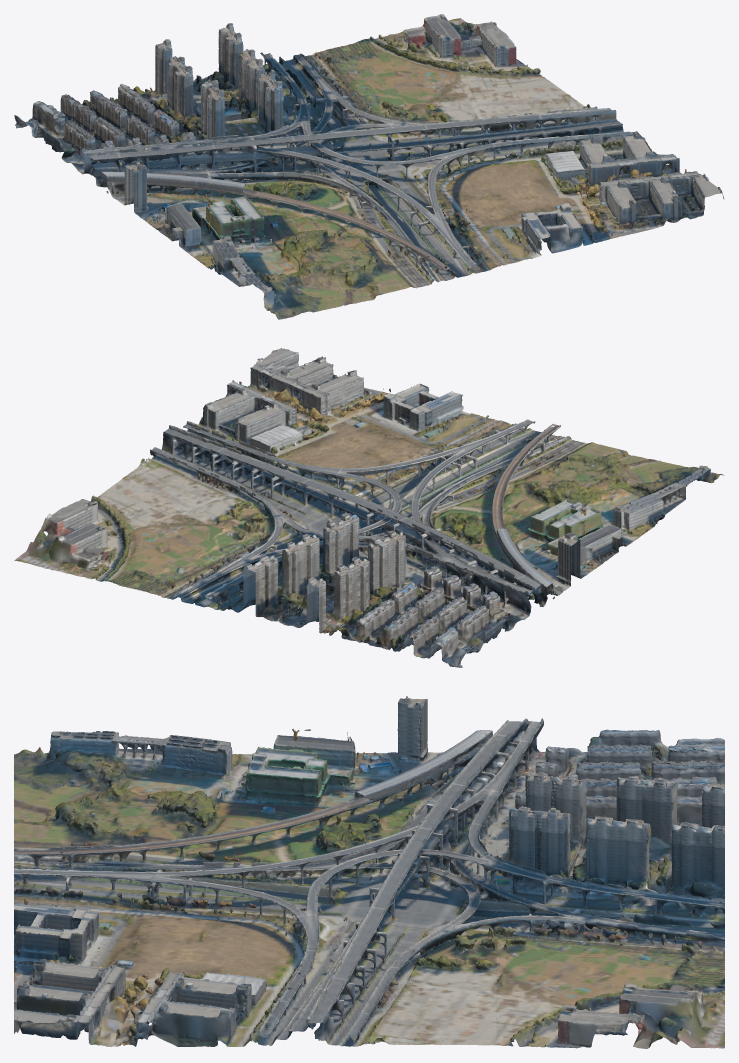
Rendered from highway_lnterchange_overpass.glb.
3 renders of one model, top to bottom at view 1: azimuth 30°, elevation 25°; view 2: azimuth 150°, elevation 25°; view 3: azimuth 270°, elevation 25°, orthographic. The views are drawn at different scales.
Parts seen in each view (by area): view 1: Object_2, Object_7, Object_4, Object_5, Object_6, Object_3, Object_8; view 2: Object_2, Object_7, Object_4, Object_3, Object_6, Object_5, Object_8; view 3: Object_2, Object_7, Object_4, Object_5, Object_3, Object_6, Object_8.
Boxes of the visible parts, x1,y1,x2,y2 form: Object_2: [14, 18, 724, 319]; Object_7: [75, 14, 720, 314]; Object_4: [109, 41, 621, 274]; Object_5: [16, 27, 622, 296]; Object_6: [17, 28, 703, 316]; Object_3: [98, 25, 611, 276]; Object_8: [172, 28, 629, 211]; Object_2: [14, 348, 724, 667]; Object_7: [26, 348, 651, 625]; Object_4: [240, 383, 652, 601]; Object_3: [244, 393, 539, 645]; Object_6: [140, 357, 716, 667]; Object_5: [29, 418, 682, 665]; Object_8: [102, 418, 452, 580]; Object_2: [14, 696, 724, 1048]; Object_7: [16, 719, 724, 1047]; Object_4: [14, 698, 681, 979]; Object_5: [14, 696, 724, 1046]; Object_3: [14, 772, 722, 979]; Object_6: [14, 722, 723, 1046]; Object_8: [241, 779, 704, 1044].
Bounding box in the file's own units: 546 × 71.83 × 560.
Materials: 1 (1 with a texture image).
